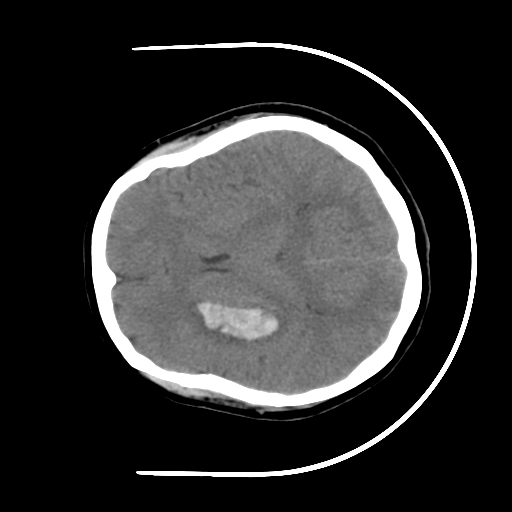a: (171, 283, 296, 357)
